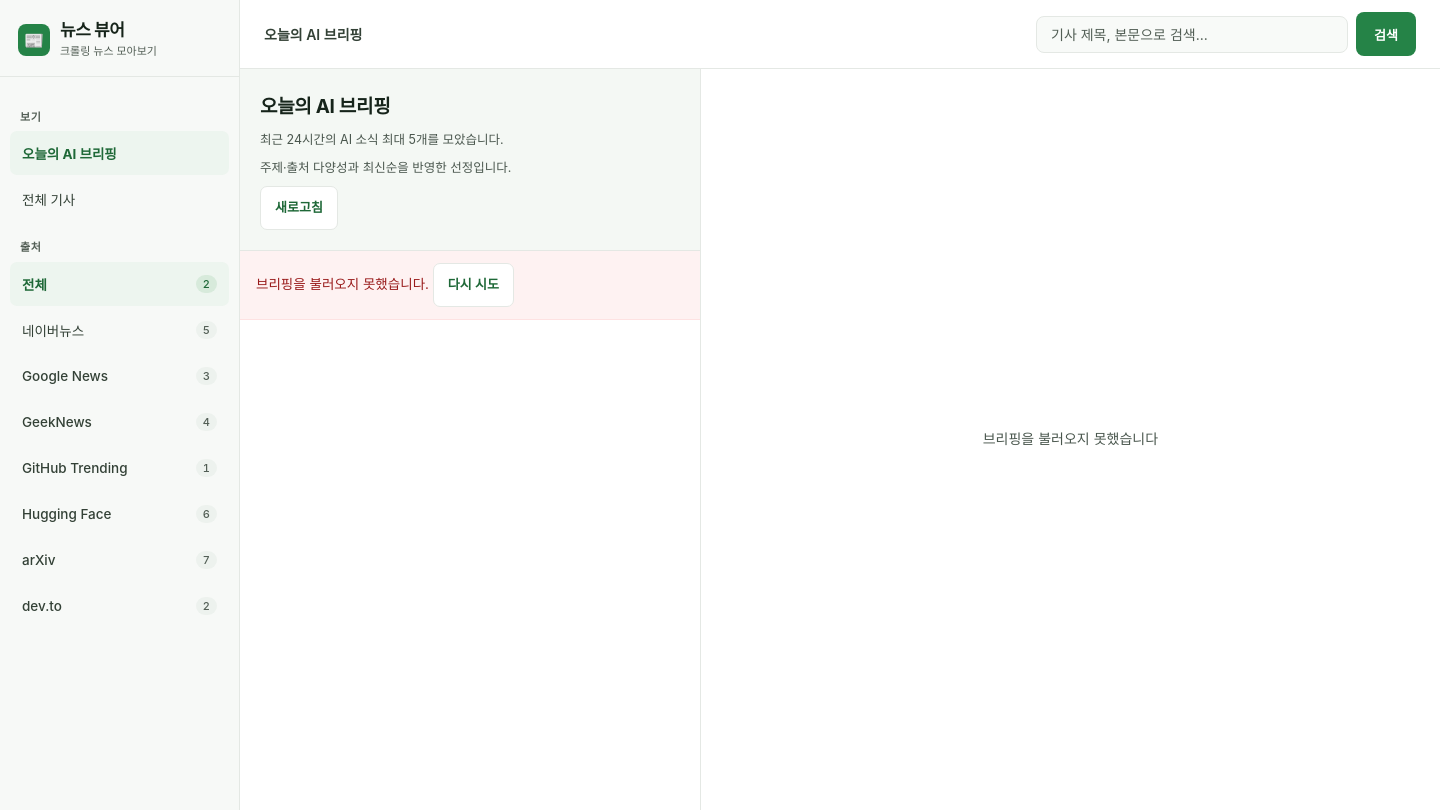
뉴스 뷰어 전체 화면 사용자 시나리오 › 브리핑 조회에 실패하면 오류 메시지와 다시 시도 버튼을 표시하고 클릭 시 브리핑을 다시 불러온다
This screenshot has width=1440, height=810.
Expected: the message shows "브리핑을 불러오지 못했습니다.", [256, 276, 429, 292]
Expected: the text "브리핑을 불러오지 못했습니다" is shown, [983, 428, 1158, 451]
Click the button "다시 시도" at point(473, 284), box [433, 262, 514, 306]
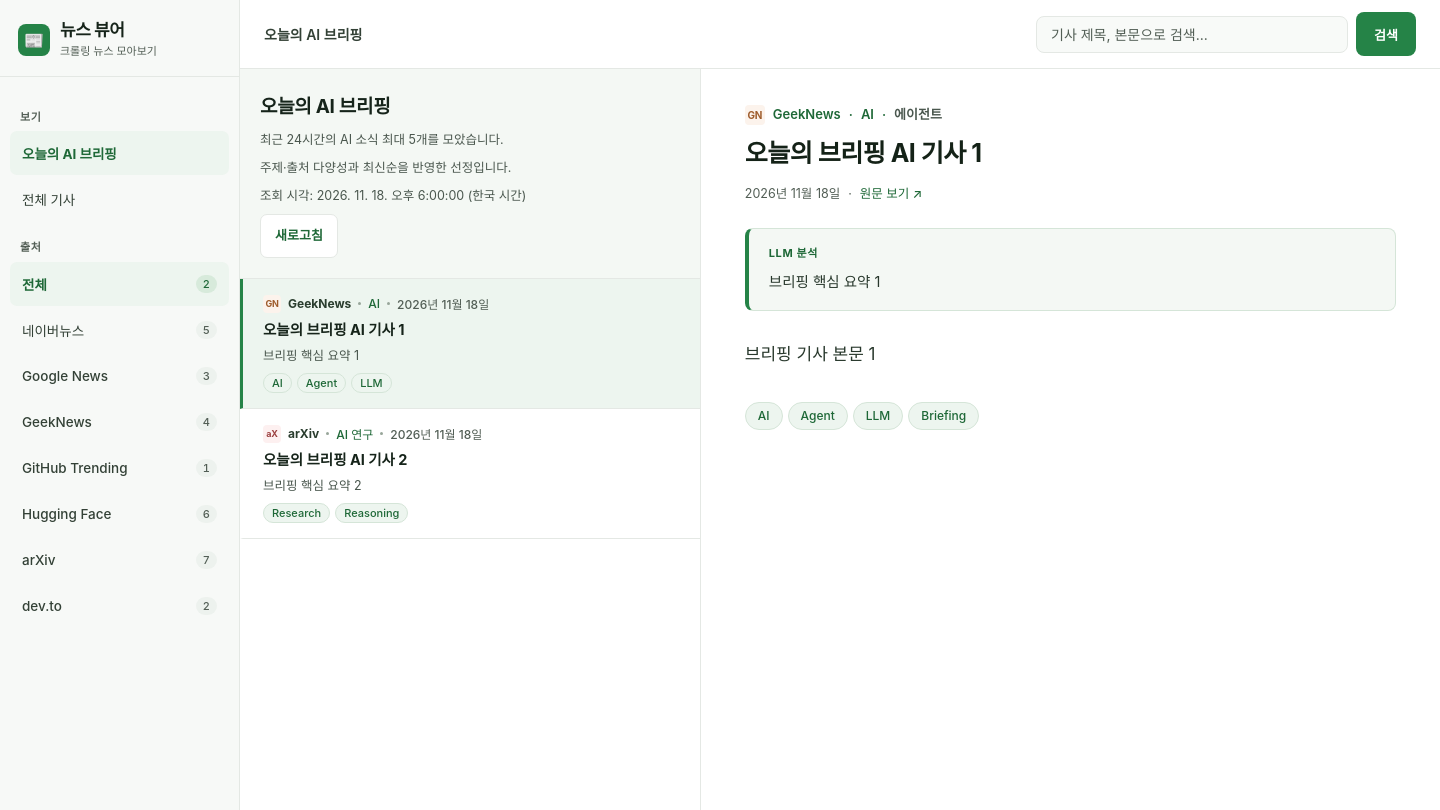
Expected: the heading "오늘의 브리핑 AI 기사 1" is shown, [745, 138, 982, 168]
Expected: the message "브리핑을 불러오지 못했습니다. 다시 시도" is gone
